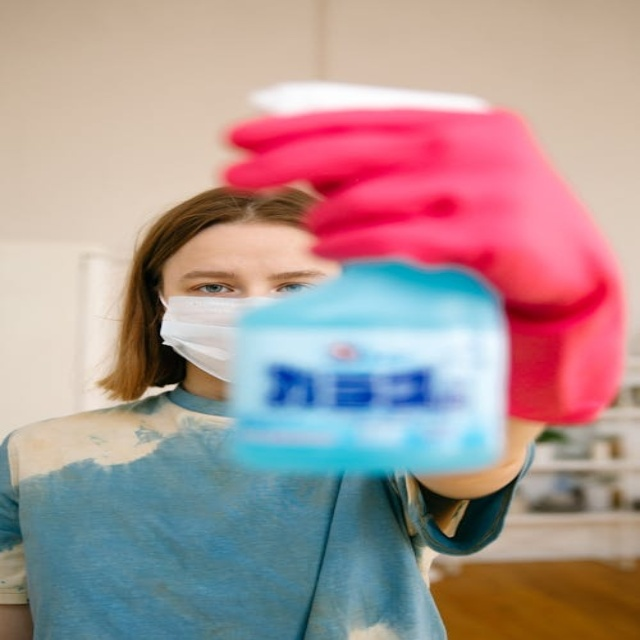Guantes: (217, 95, 625, 426)
Mascara: (157, 288, 293, 382)
Sin_gafas: (169, 264, 317, 300)
